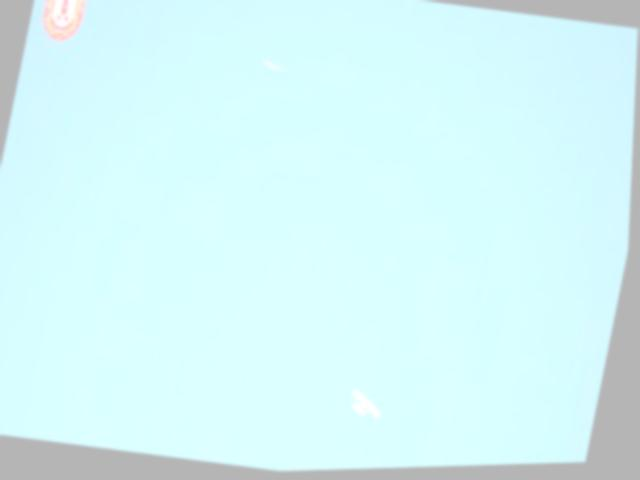uav: (348, 388, 394, 427), (262, 56, 287, 76)
